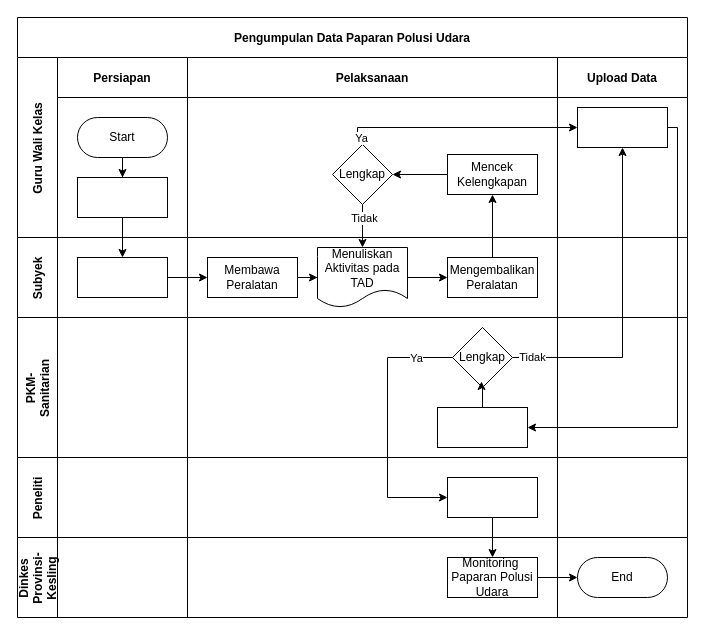
Some shapes in this 705 by 635 pixel diagram are drawn without their labels. Each missing label, with the centre of its shape:
"Data Cleaning & Processing" goes at [492,497].
"Menerima Peralatan" goes at [122,277].
"Mengirim Data" goes at [622,127].
"Menyiapkan Peralatan" goes at [122,197].
"Monitoring Pengiriman Data" goes at [482,427].
